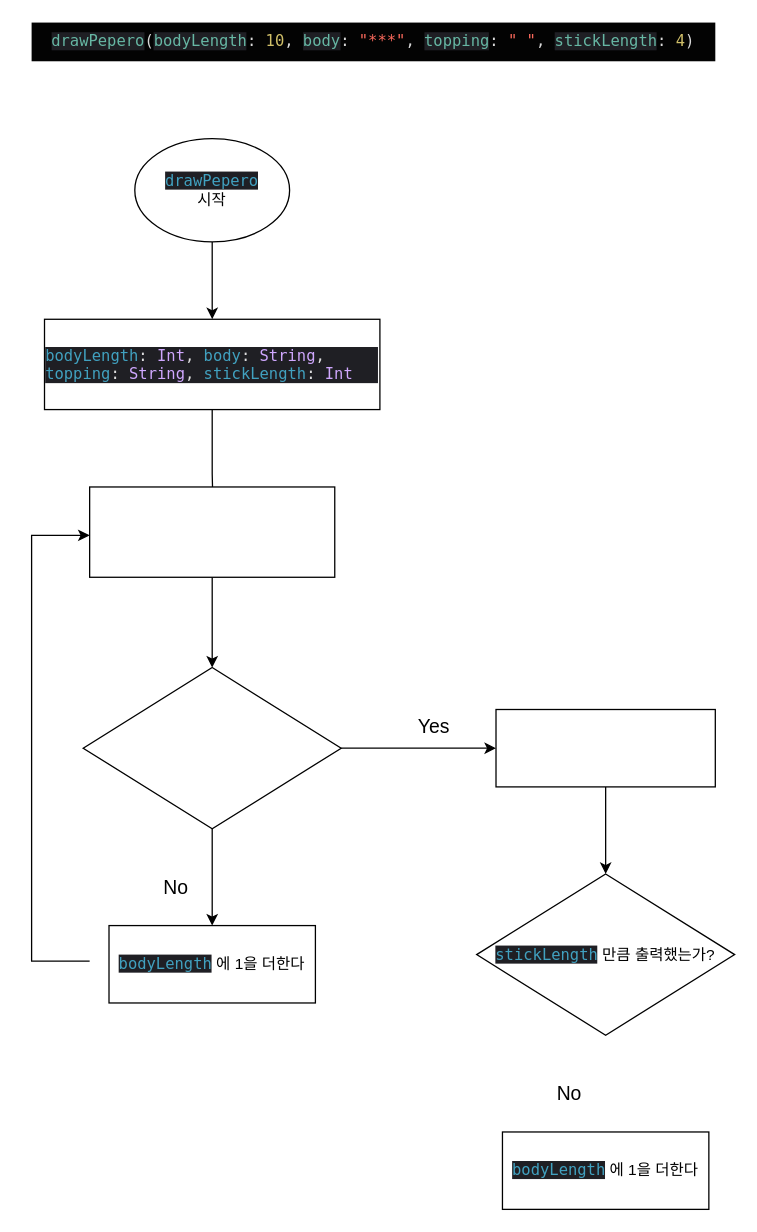
This 757x1232 diagram has some shape labels left out. The shapes that lost their labels are listed below. From the top down, each one's centre as x and y in pixels, then its label:
point 211,531: bodyLength 만큼 body, topping 출력
point 211,747: bodyLength 만큼 출력했는가?
point 605,747: stickLength 만큼 " | | " 출력
